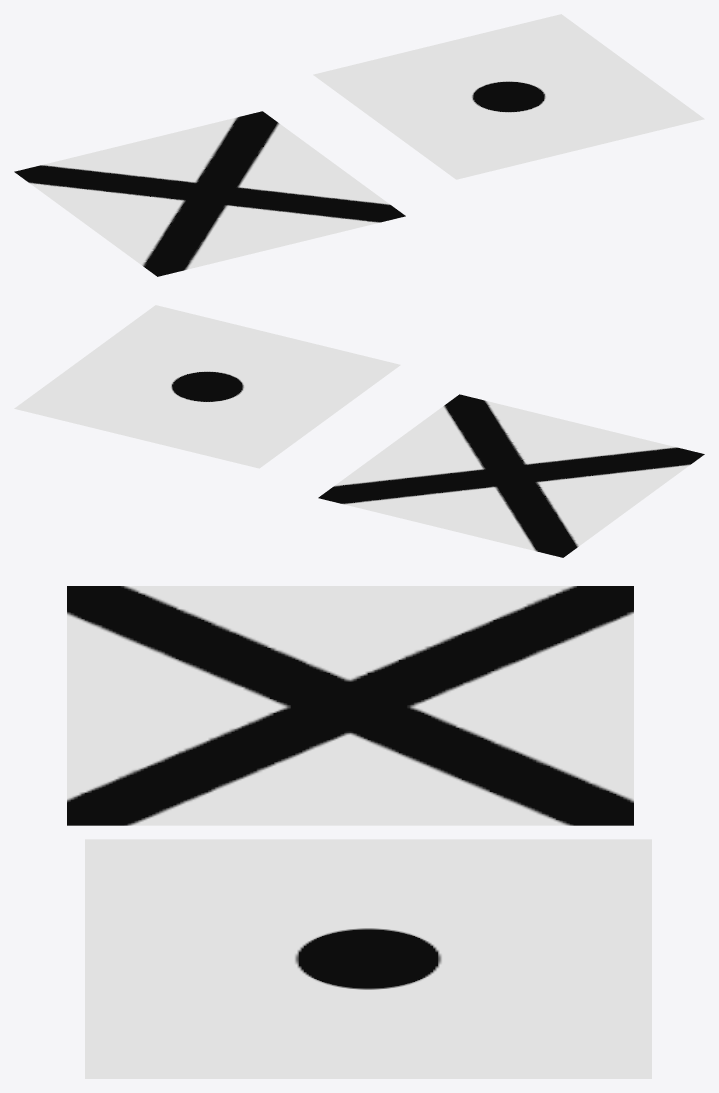
Rendered from game.gltf.
The picture shows the model from 3 angles, top to bottom: view 1: azimuth 30°, elevation 25°; view 2: azimuth 150°, elevation 25°; view 3: azimuth 270°, elevation 25°; orthographic projection. The views are drawn at different scales.
Parts seen in each view (by area): view 1: planeCross, planePoint; view 2: planeCross, planePoint; view 3: planeCross, planePoint.
Boxes of the visible parts, x1,y1,x2,y2 form: planeCross: (14,111,405,276); planePoint: (313,14,704,179); planeCross: (318,394,704,557); planePoint: (14,305,400,468); planeCross: (67,586,633,825); planePoint: (85,839,651,1078).
Size of the model in its own units: 1.78 by 0.0609 by 0.8252.
Materials: 2 (2 with a texture image).
